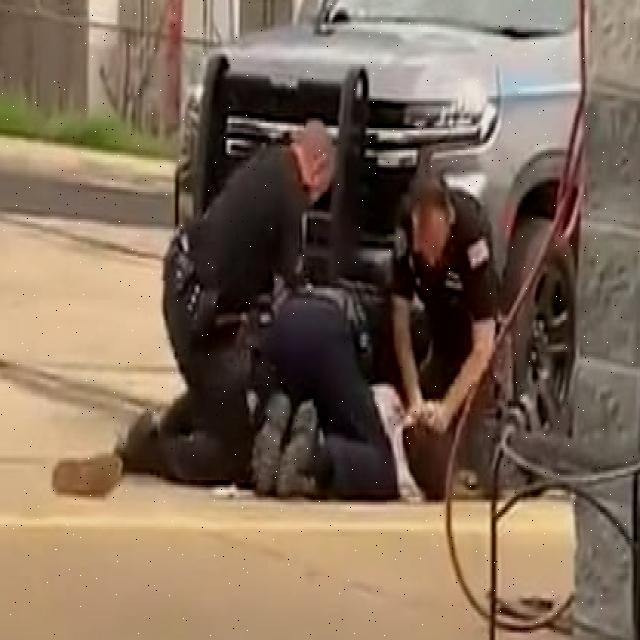police: (140, 102, 344, 507), (396, 155, 509, 548)
